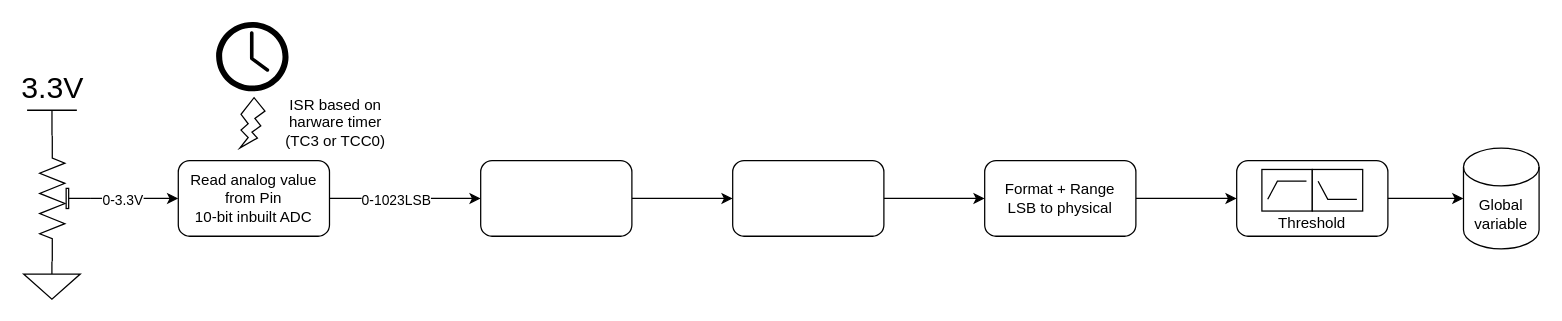
This 1562x321 diagram has some shape labels left out. Here are the shapes that lost their labels. From the top down, the centre of each, then its label:
At [555,197]: "Deadband (bottom only)".
At [807,197]: "Median Filter".
